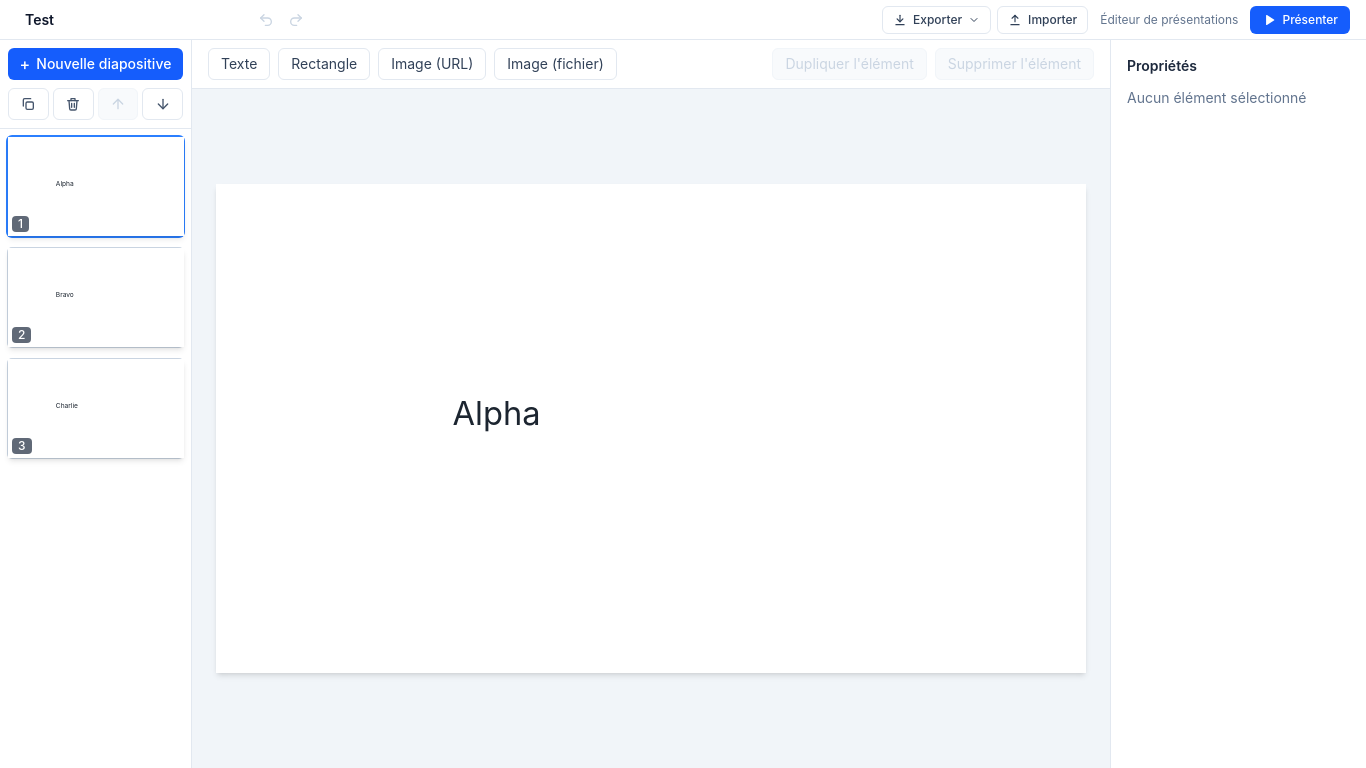
Test case: EditorLayout › affiche la diapositive cliquée dans la zone centrale
What coordinates should you click on to do the following:
click the button named "Diapositive 2"
I would click on:
 (96, 298)
Its box is [8,248,183,347].
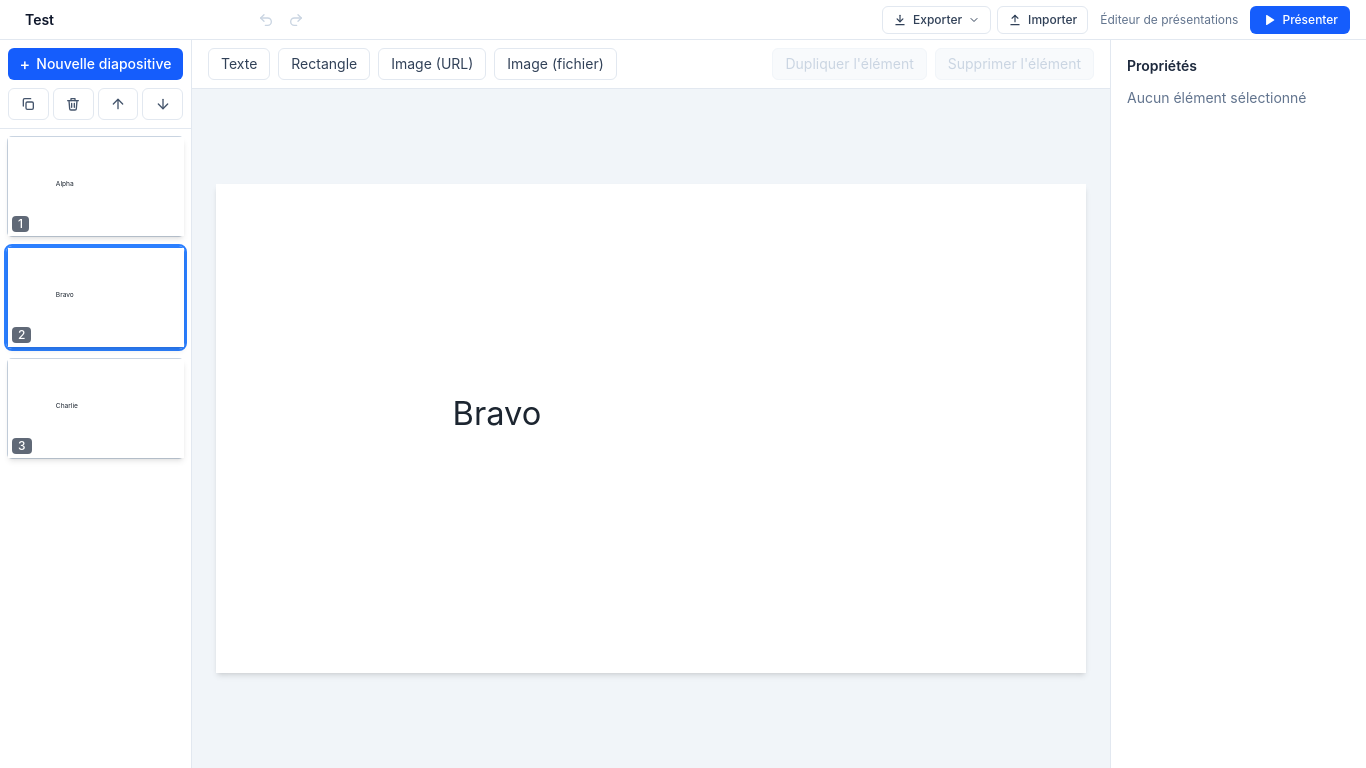
Result: the 2nd text "Bravo" is shown at [452,393,541,433]
